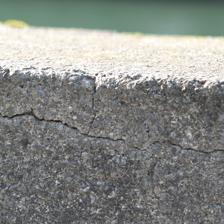Crack: (30, 72, 108, 152), (107, 51, 158, 80)
